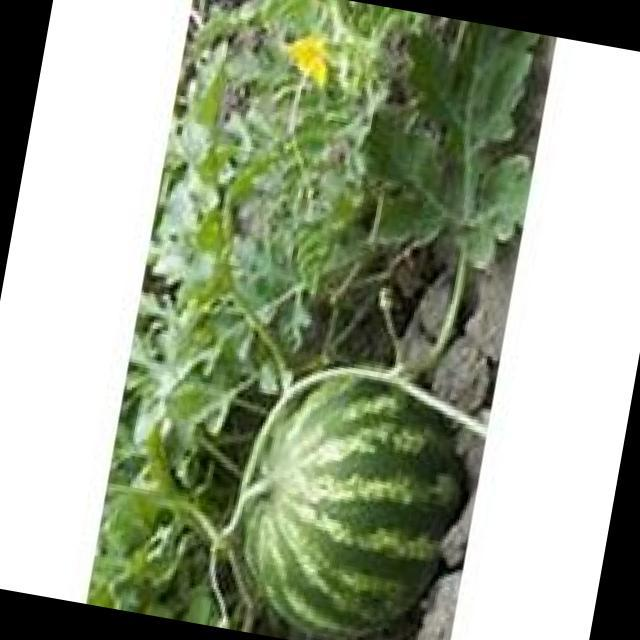watermelon: (243, 369, 478, 639)
